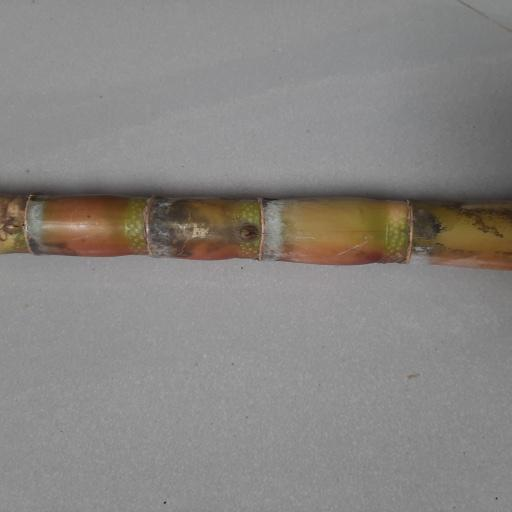Bud: (237, 223, 260, 241)
